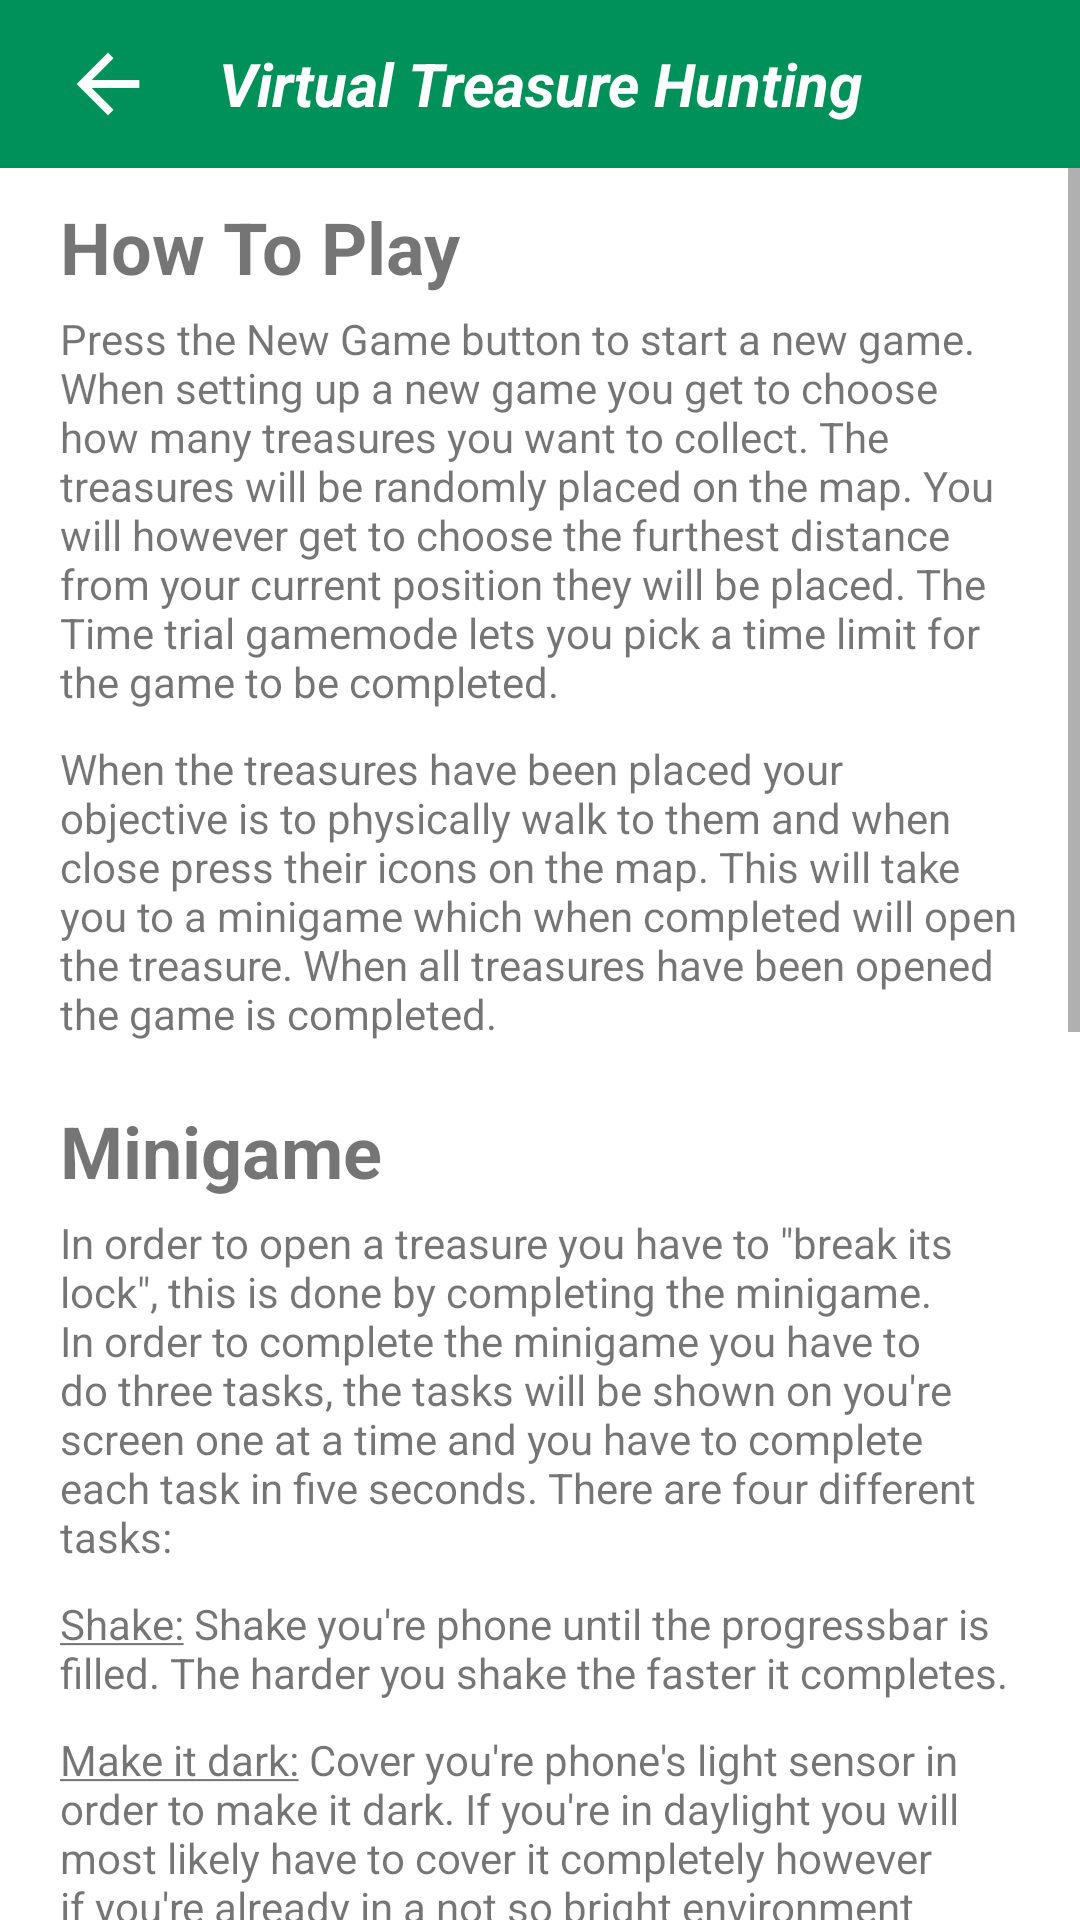

Screen size 1080 × 1920. Icon name, then its center in pixels as [x,y]:
Back button: [108,84]
